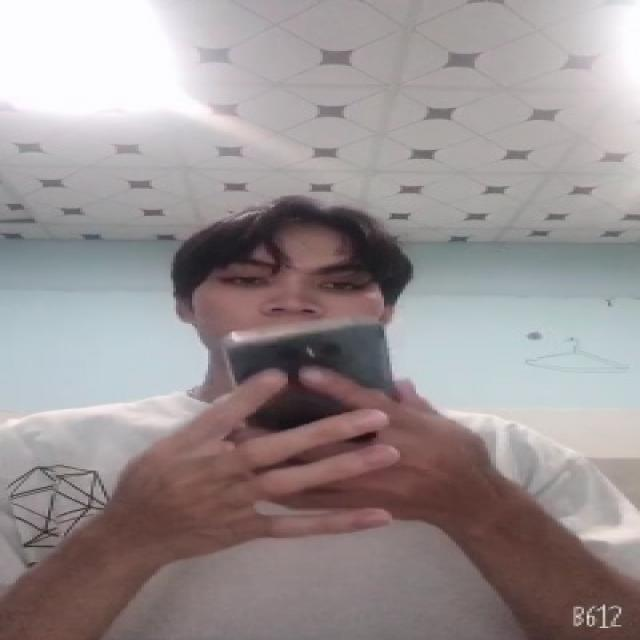Phone: (224, 313, 395, 467)
